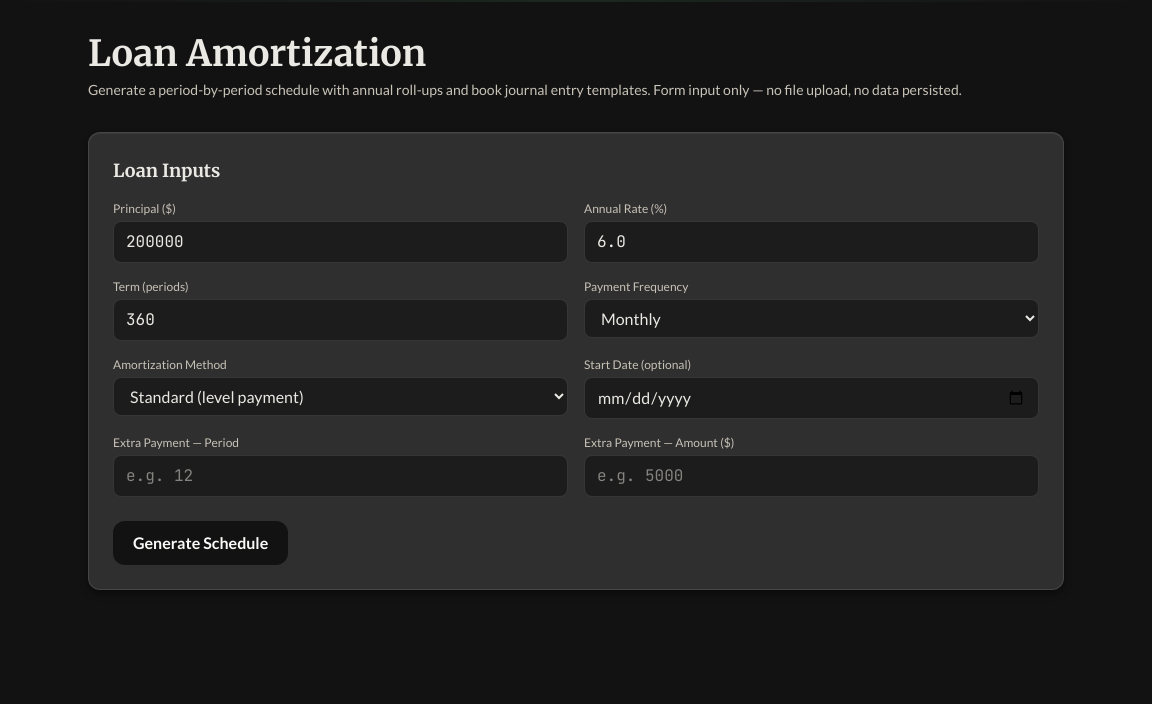
Test case: LoanAmortizationPage › shows an error when an export response is not ok
Click the button "Generate Schedule". click: coordinates (201, 543)
box: [113,521,288,565]
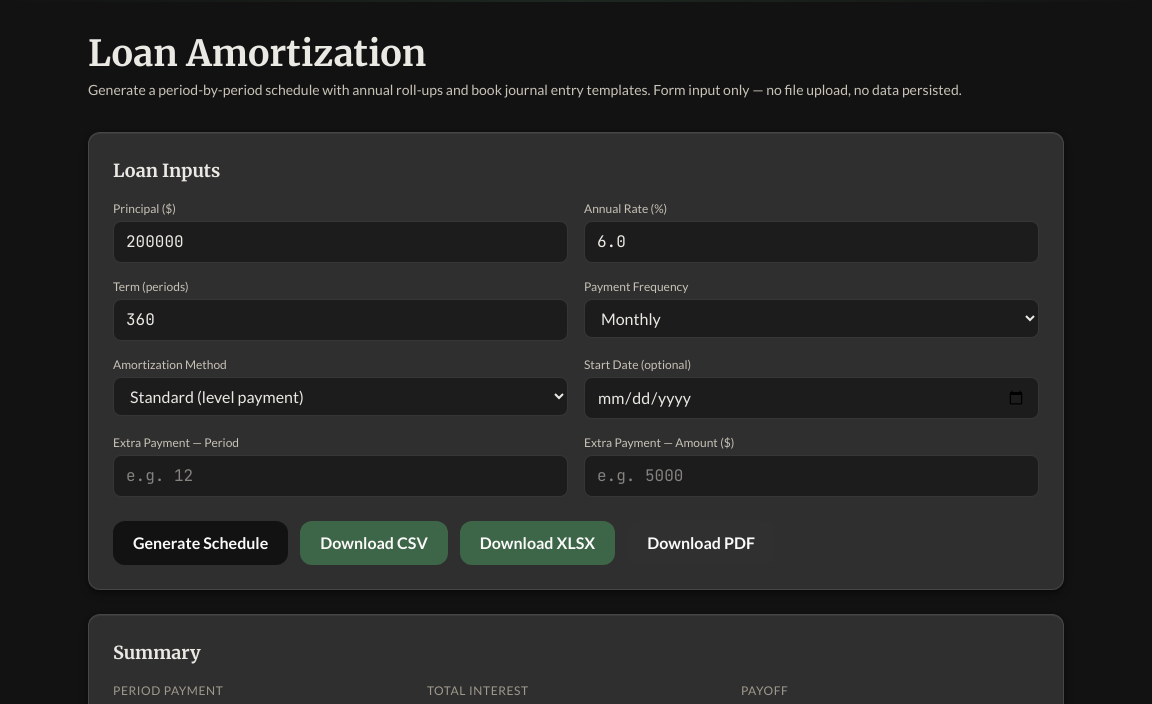
Check: the button "Download CSV" is shown
Click the button "Download CSV". click: coordinates (374, 543)
box: [300,521,448,565]
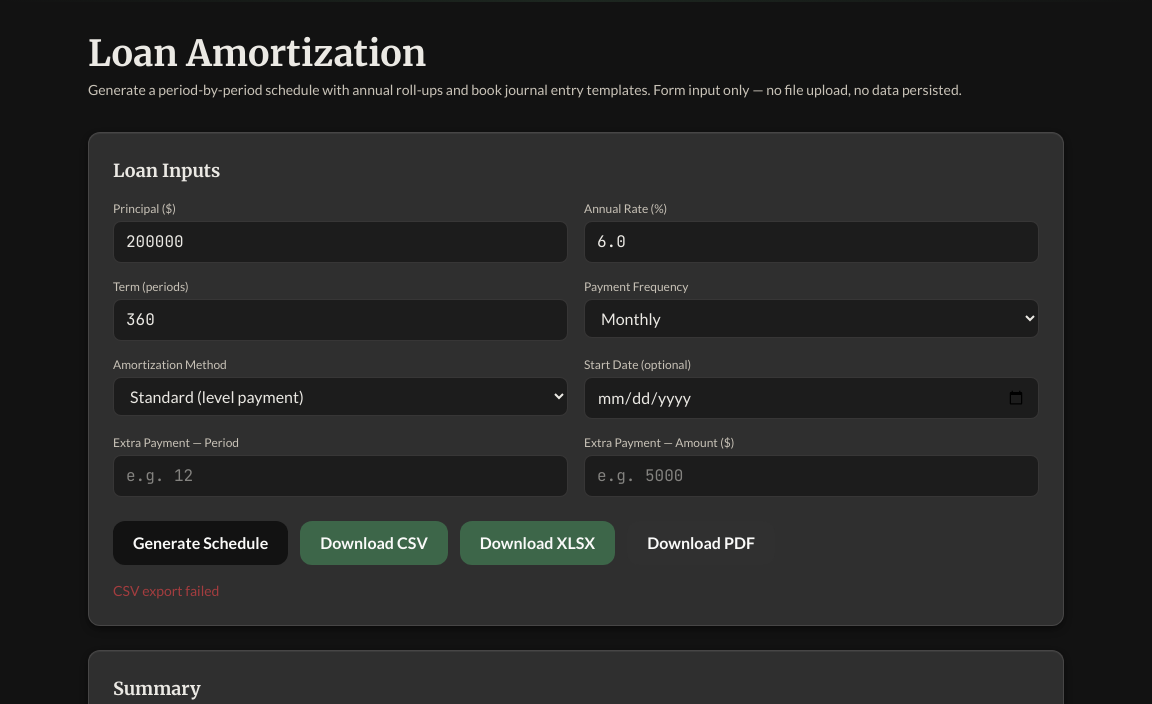
Check: the message reads "CSV export failed", box [113,582,219,599]
